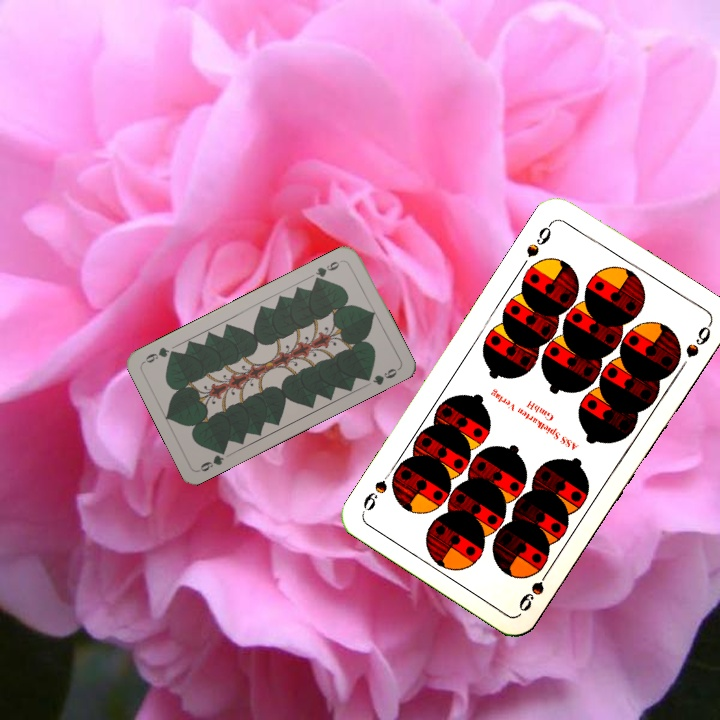G9: (195, 444, 229, 474), (311, 256, 346, 284)
S9: (514, 562, 555, 615), (522, 217, 556, 260)
